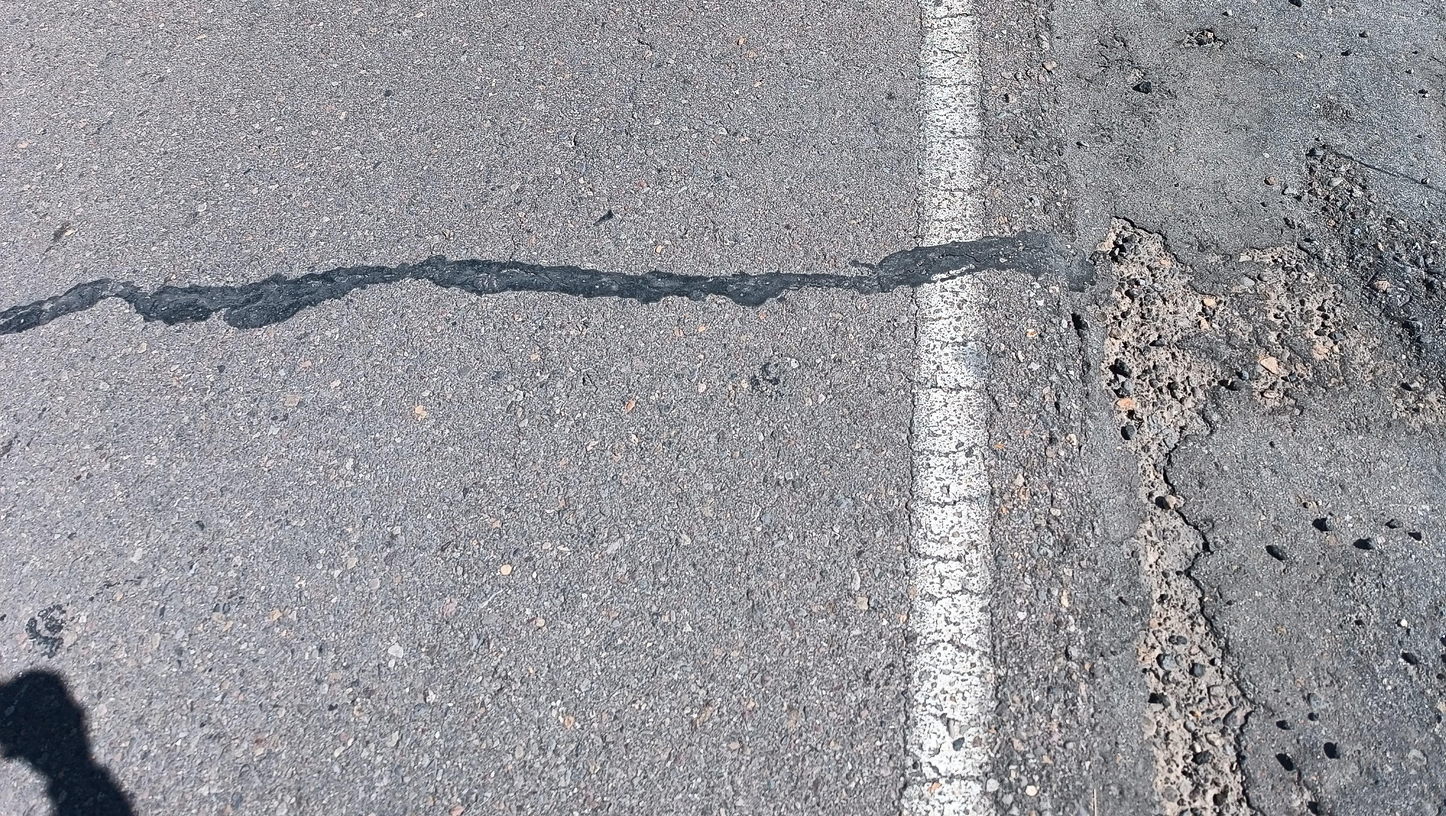PARCHE: (1164, 365, 1446, 816), (1019, 0, 1446, 269), (0, 234, 1056, 335)
